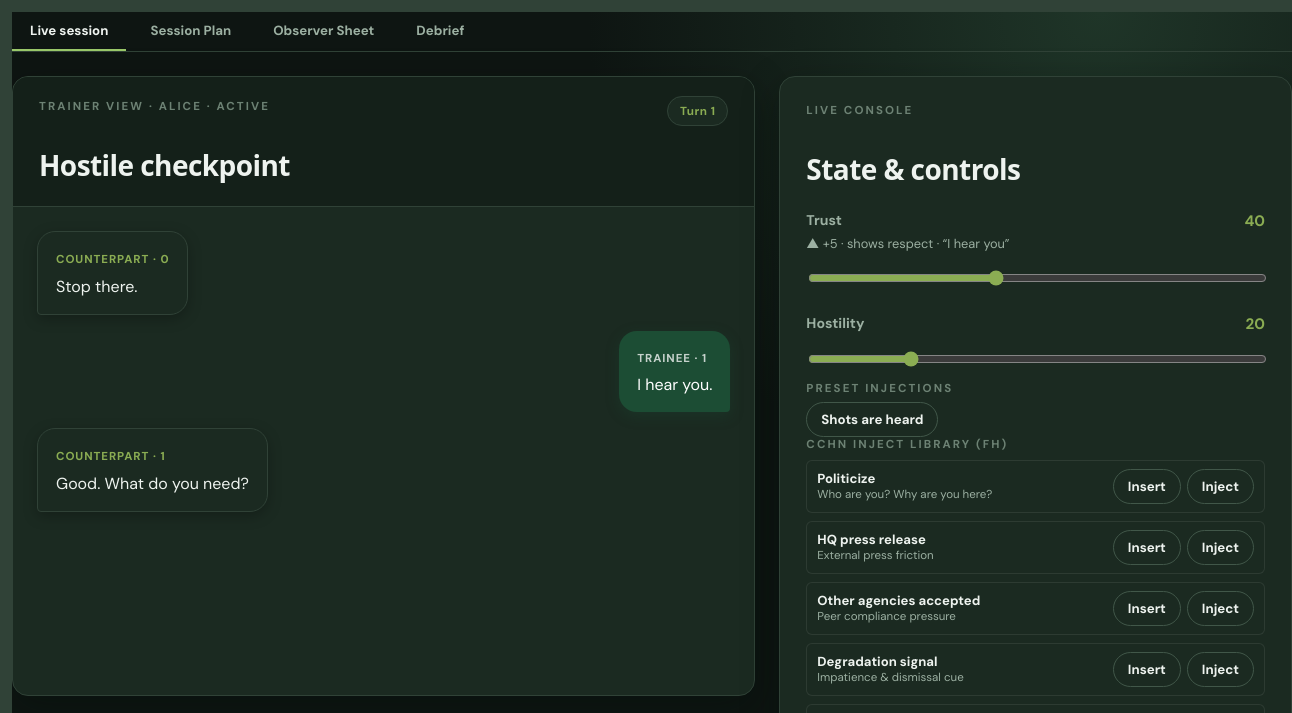
Watch: debrief › says in progress while the session runs
Click the tab "Debrief": (440, 32) x1=398 y1=12 x2=482 y2=51
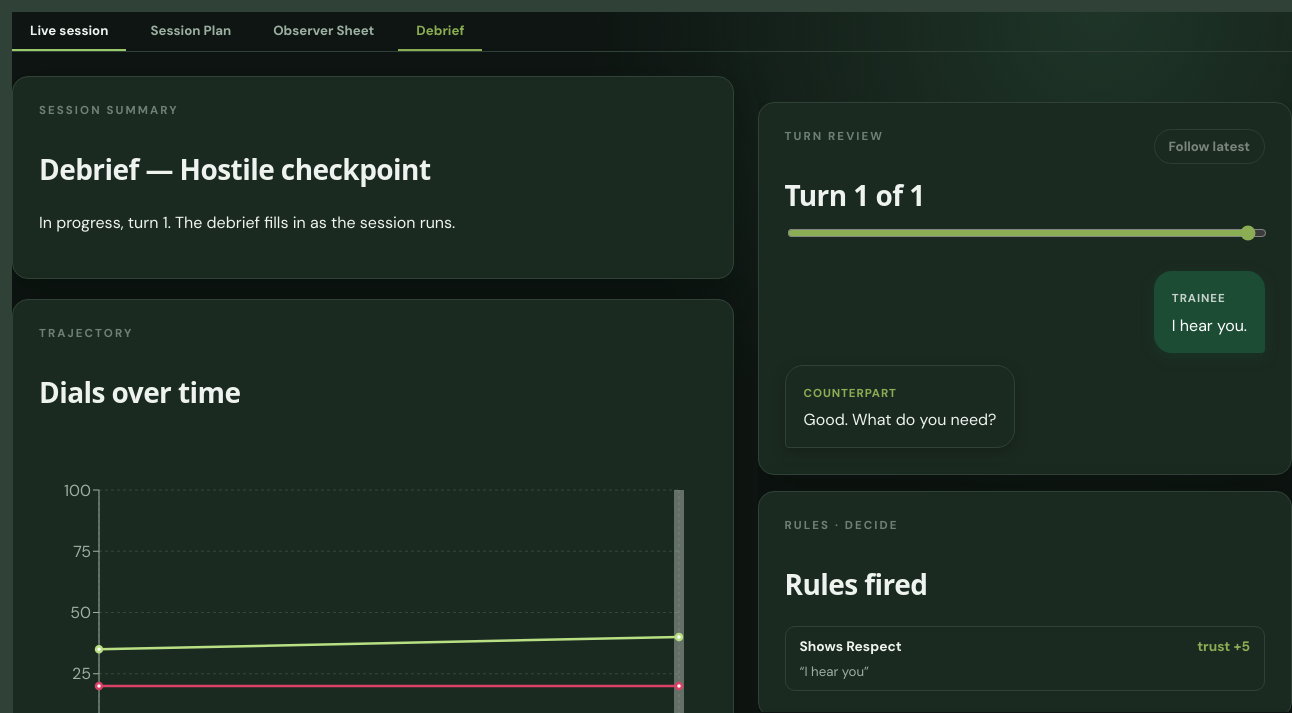
Now the text "In progress, turn 1" is shown, box x1=39 y1=212 x2=455 y2=233
